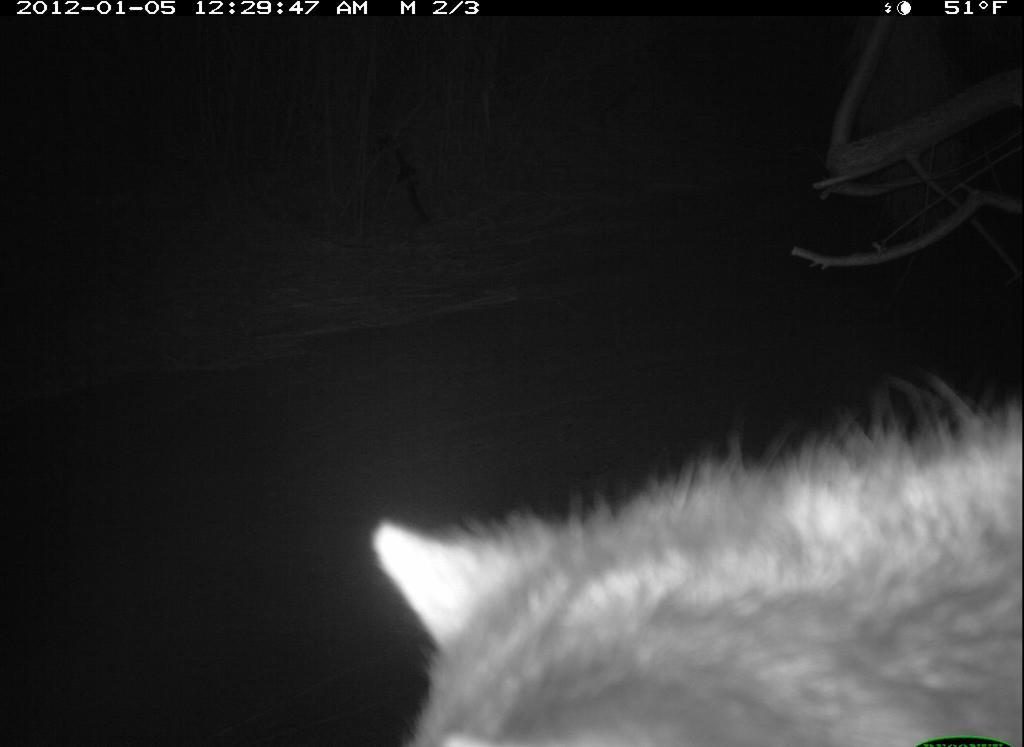raccoon: (354, 374, 1023, 747)
